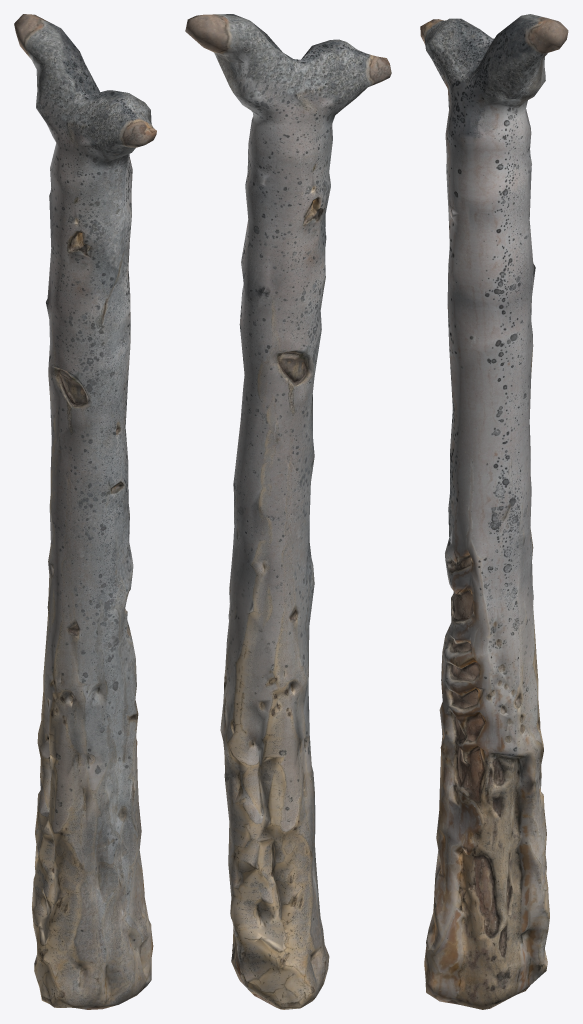
The model's file is shrub_dry.glb.
The picture shows the model from 3 angles, left to right: view 1: azimuth 90°, elevation 25°; view 2: azimuth 150°, elevation 25°; view 3: azimuth 270°, elevation 25°; orthographic projection. The views are drawn at different scales.
Bounding box in the file's own units: 0.3045 × 1.99 × 0.2681.
Materials: 1 (1 with a texture image).
